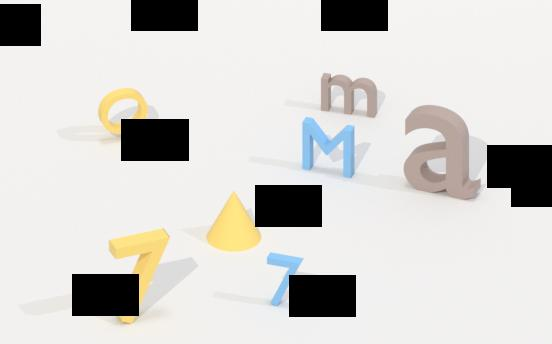7: (100, 229, 173, 327), (265, 250, 305, 311)
M-hoa: (297, 113, 362, 180)
a: (402, 103, 484, 200)
m: (320, 70, 379, 122)
non: (200, 186, 264, 256)
q: (95, 83, 151, 143)
